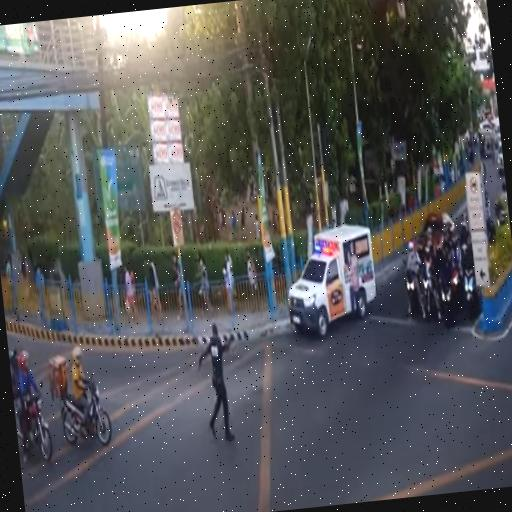Police car: (284, 225, 382, 334)
